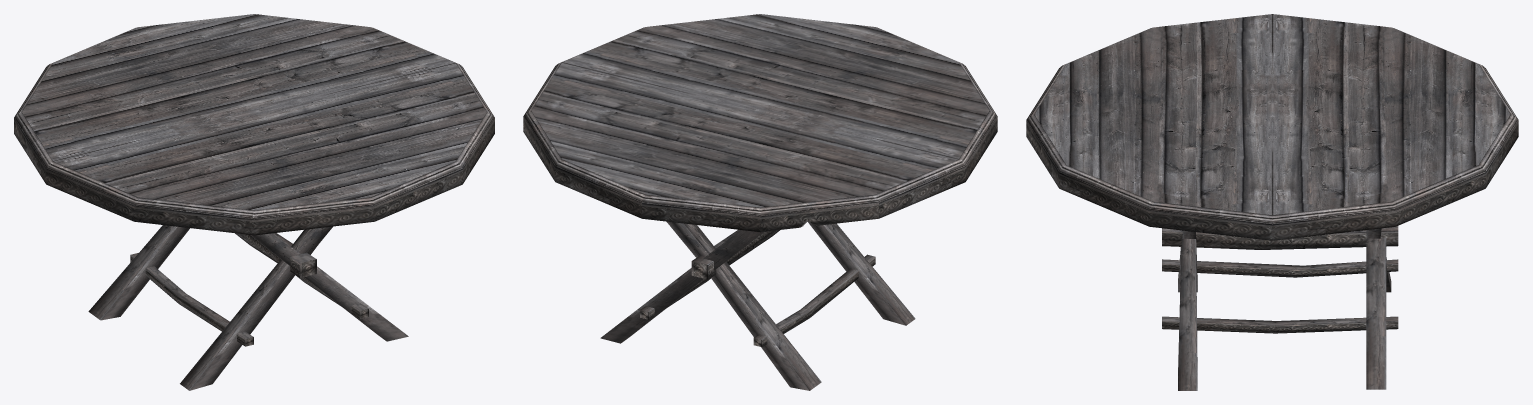
File: tavern_table.fbx
3 renders of one model, left to right at view 1: azimuth 30°, elevation 25°; view 2: azimuth 150°, elevation 25°; view 3: azimuth 270°, elevation 25°, orthographic. The views are drawn at different scales.
Parts seen in each view (by area): view 1: Default_Layer; view 2: Default_Layer; view 3: Default_Layer.
Part boxes in pixels (<box>): Default_Layer: <box>14,14,494,390</box>; Default_Layer: <box>523,14,997,390</box>; Default_Layer: <box>1026,14,1518,390</box>.
Size of the model in its own units: 757 by 378 by 757.
1 material, 1 textured.
